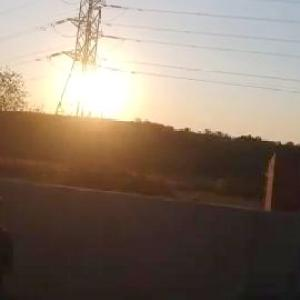follow: (0, 187, 18, 299)
